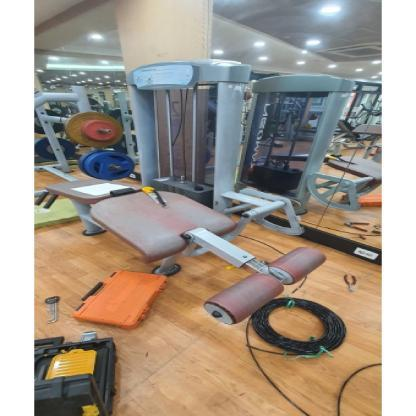reg curl machine: (27, 56, 342, 328)
